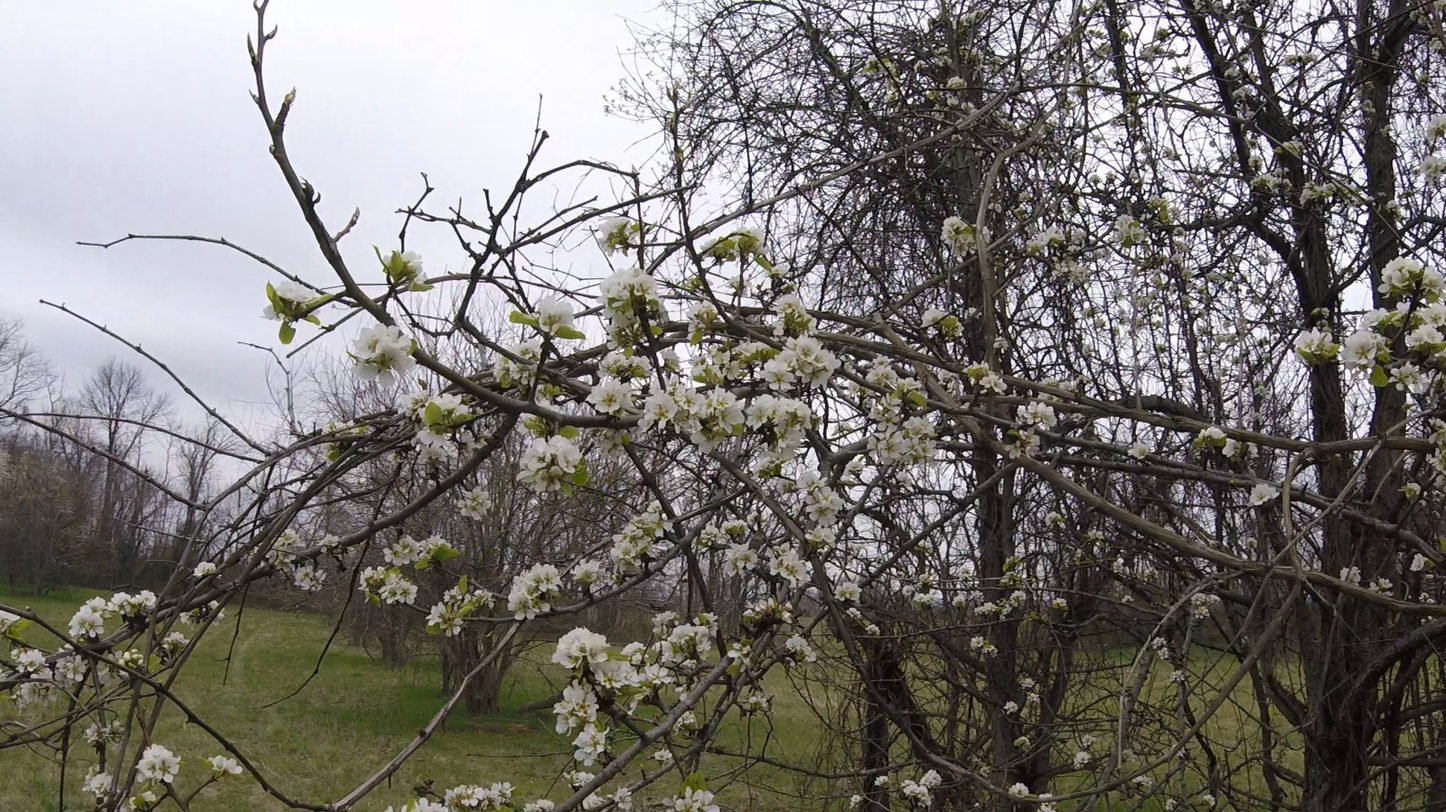flower: (586, 261, 819, 478), (551, 611, 718, 699), (352, 323, 473, 423), (570, 500, 687, 593), (859, 353, 942, 475), (753, 285, 842, 397), (1337, 303, 1411, 380), (789, 466, 856, 551), (69, 590, 162, 639), (516, 432, 586, 497), (1405, 265, 1446, 348), (266, 524, 317, 590), (508, 563, 564, 621), (411, 782, 516, 812), (1005, 402, 1057, 460), (765, 538, 812, 597), (553, 677, 599, 737), (594, 204, 640, 263), (358, 566, 418, 605), (383, 533, 452, 566), (1378, 254, 1424, 299), (532, 290, 577, 336), (410, 426, 457, 464), (721, 536, 761, 580), (136, 744, 181, 783), (481, 350, 530, 385), (902, 770, 942, 812), (572, 723, 610, 767), (427, 602, 473, 638), (678, 300, 718, 341), (962, 361, 1008, 396), (736, 216, 774, 258), (941, 216, 978, 259), (1293, 327, 1334, 365), (1107, 214, 1151, 247), (457, 484, 495, 522), (1384, 361, 1422, 396), (395, 249, 431, 285), (15, 648, 53, 680), (1027, 222, 1066, 253), (673, 787, 720, 812), (840, 454, 879, 484), (1410, 154, 1446, 186), (53, 656, 89, 687), (275, 282, 323, 305), (502, 335, 545, 360), (16, 682, 56, 708), (96, 661, 125, 696), (82, 767, 113, 798), (1422, 114, 1446, 154), (914, 303, 949, 330), (1244, 482, 1280, 508), (651, 611, 681, 642), (785, 634, 817, 663), (833, 575, 866, 603), (1128, 431, 1157, 460), (84, 720, 110, 751), (727, 646, 755, 673), (564, 770, 596, 791), (206, 756, 243, 774), (607, 787, 633, 812), (444, 586, 472, 608), (261, 304, 285, 322), (0, 611, 20, 632), (523, 799, 555, 812), (164, 632, 191, 647), (1199, 426, 1227, 440), (194, 562, 220, 577), (1223, 438, 1242, 458), (700, 238, 725, 253), (180, 609, 200, 627), (1009, 783, 1033, 798), (1410, 554, 1429, 572), (1075, 751, 1093, 770), (316, 535, 339, 547), (1347, 567, 1361, 585), (875, 776, 895, 786), (654, 750, 672, 761), (142, 791, 157, 802), (381, 254, 393, 267), (315, 570, 327, 583), (850, 796, 861, 809), (815, 416, 824, 431), (215, 609, 226, 621), (208, 601, 221, 611), (1340, 568, 1349, 581), (1437, 178, 1446, 188), (886, 467, 895, 476), (640, 378, 649, 386), (644, 247, 649, 255), (364, 597, 370, 603), (830, 389, 834, 397), (92, 746, 98, 751), (646, 256, 651, 261), (49, 654, 57, 657), (450, 454, 455, 458), (756, 476, 760, 481), (901, 415, 905, 419), (640, 387, 643, 390)
